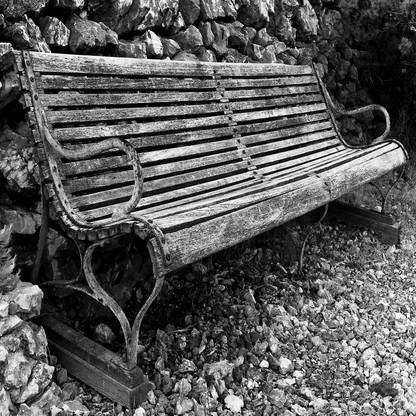obstacle: (10, 39, 401, 381)
